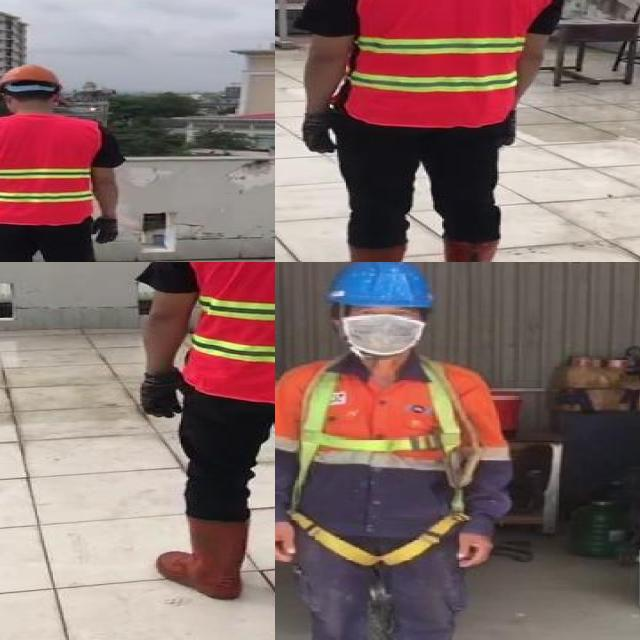boots: (156, 515, 250, 600), (431, 236, 497, 262), (319, 242, 404, 262)
face_mask: (341, 305, 423, 361)
hand_glove: (140, 374, 194, 417), (300, 110, 342, 153), (497, 110, 519, 147), (91, 219, 121, 246)
hand_noglove: (450, 521, 498, 572), (275, 515, 301, 567)
head_helmet: (322, 262, 442, 313), (0, 63, 62, 88)
person: (275, 262, 527, 640), (289, 0, 568, 262), (127, 262, 275, 630), (0, 59, 130, 262)
vest: (338, 0, 550, 127), (189, 262, 275, 402), (0, 115, 102, 228)
